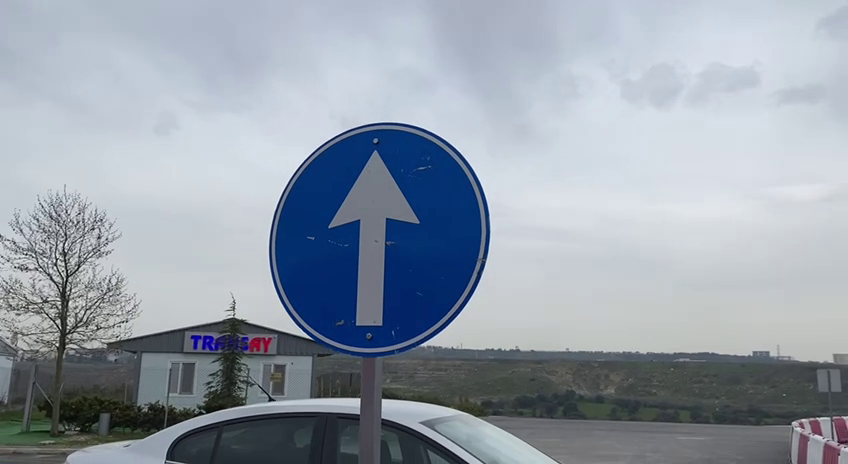forward: (257, 115, 499, 364)
